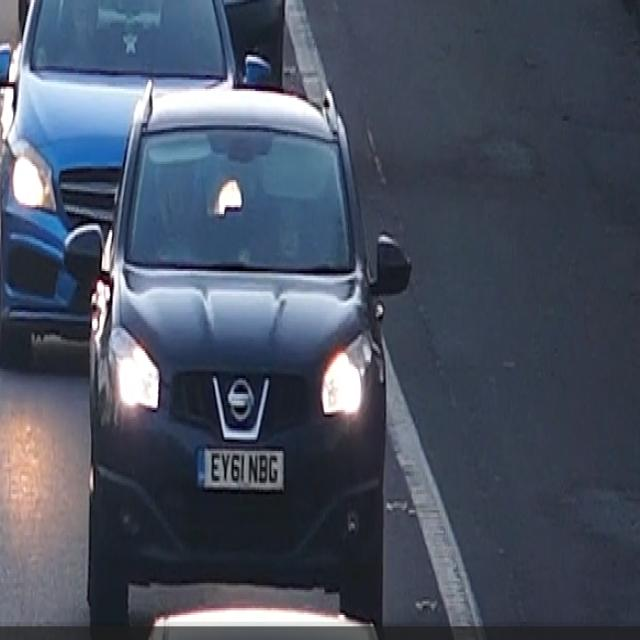Autre: (204, 439, 286, 495)
